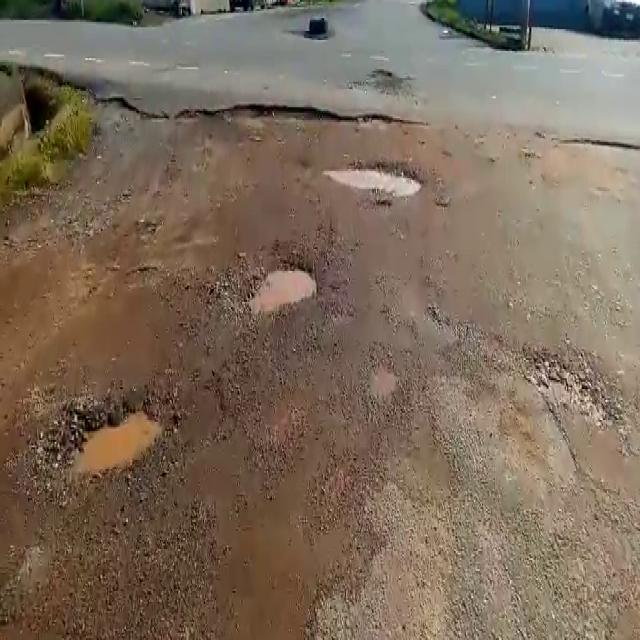Pothole: (48, 392, 173, 478), (250, 257, 322, 316), (334, 160, 426, 198), (370, 354, 398, 404)
